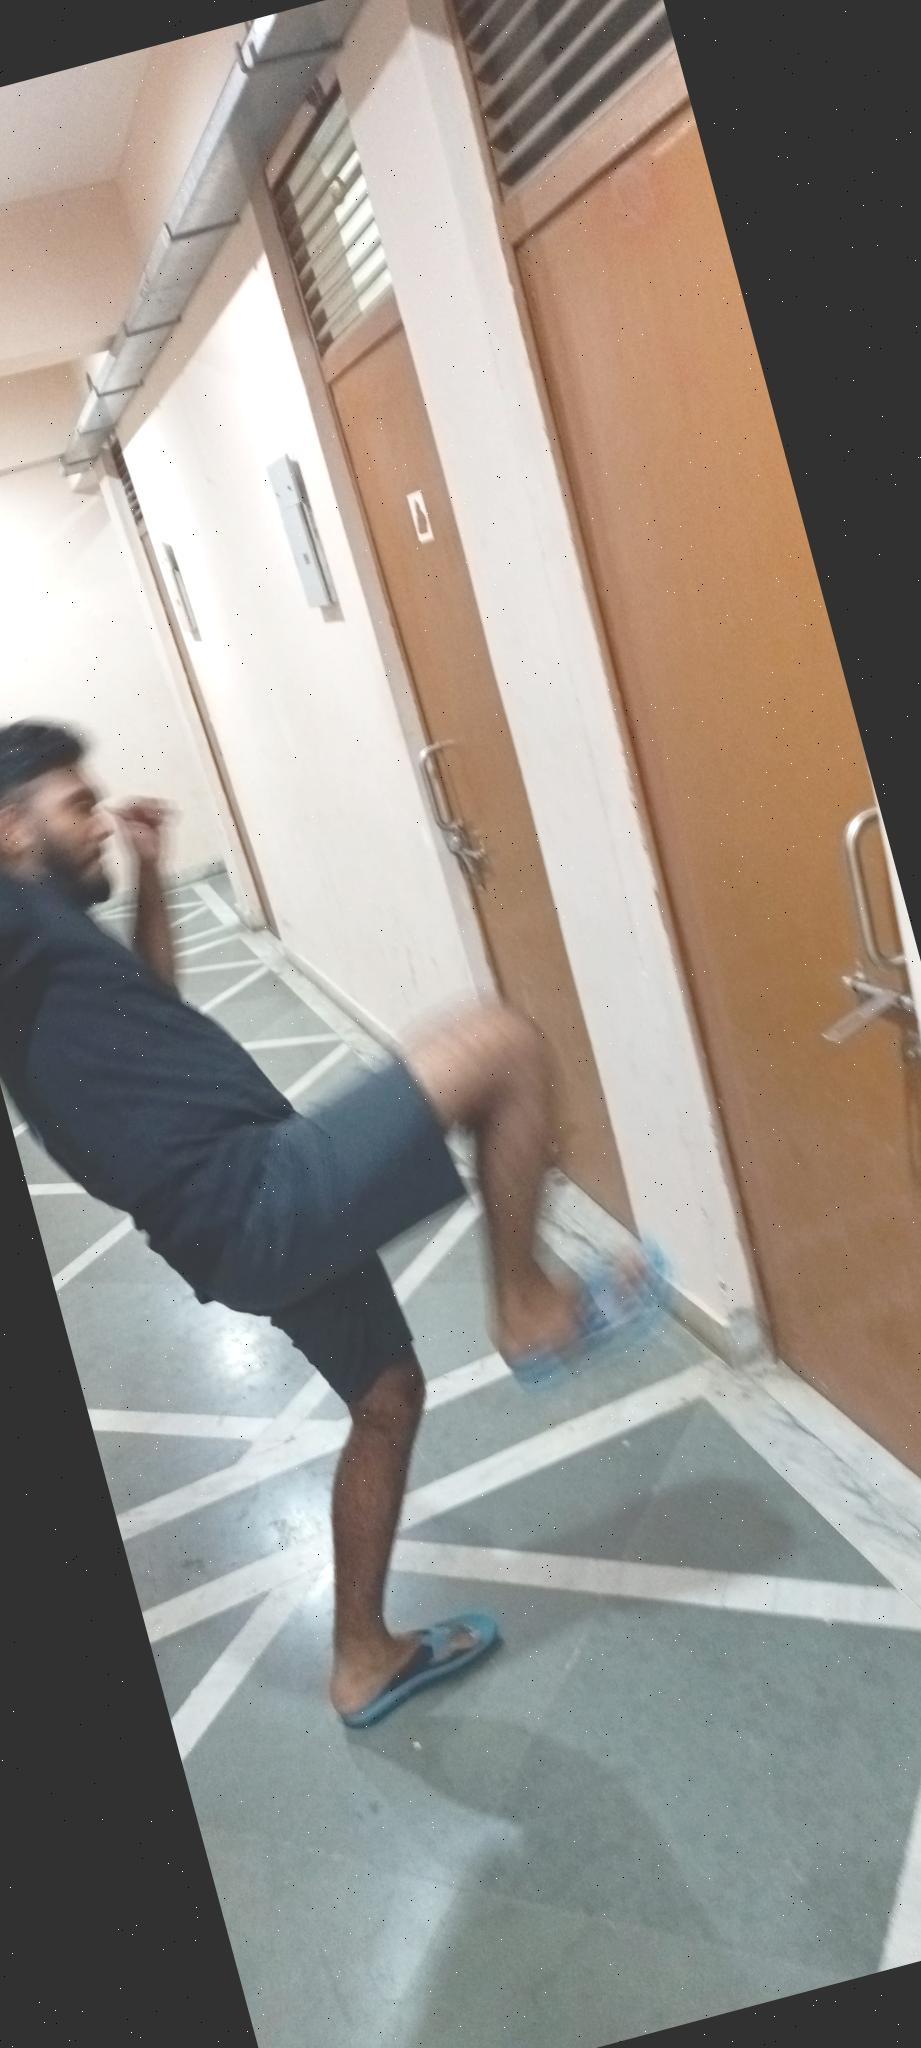suspicion: (0, 383, 921, 1902)
